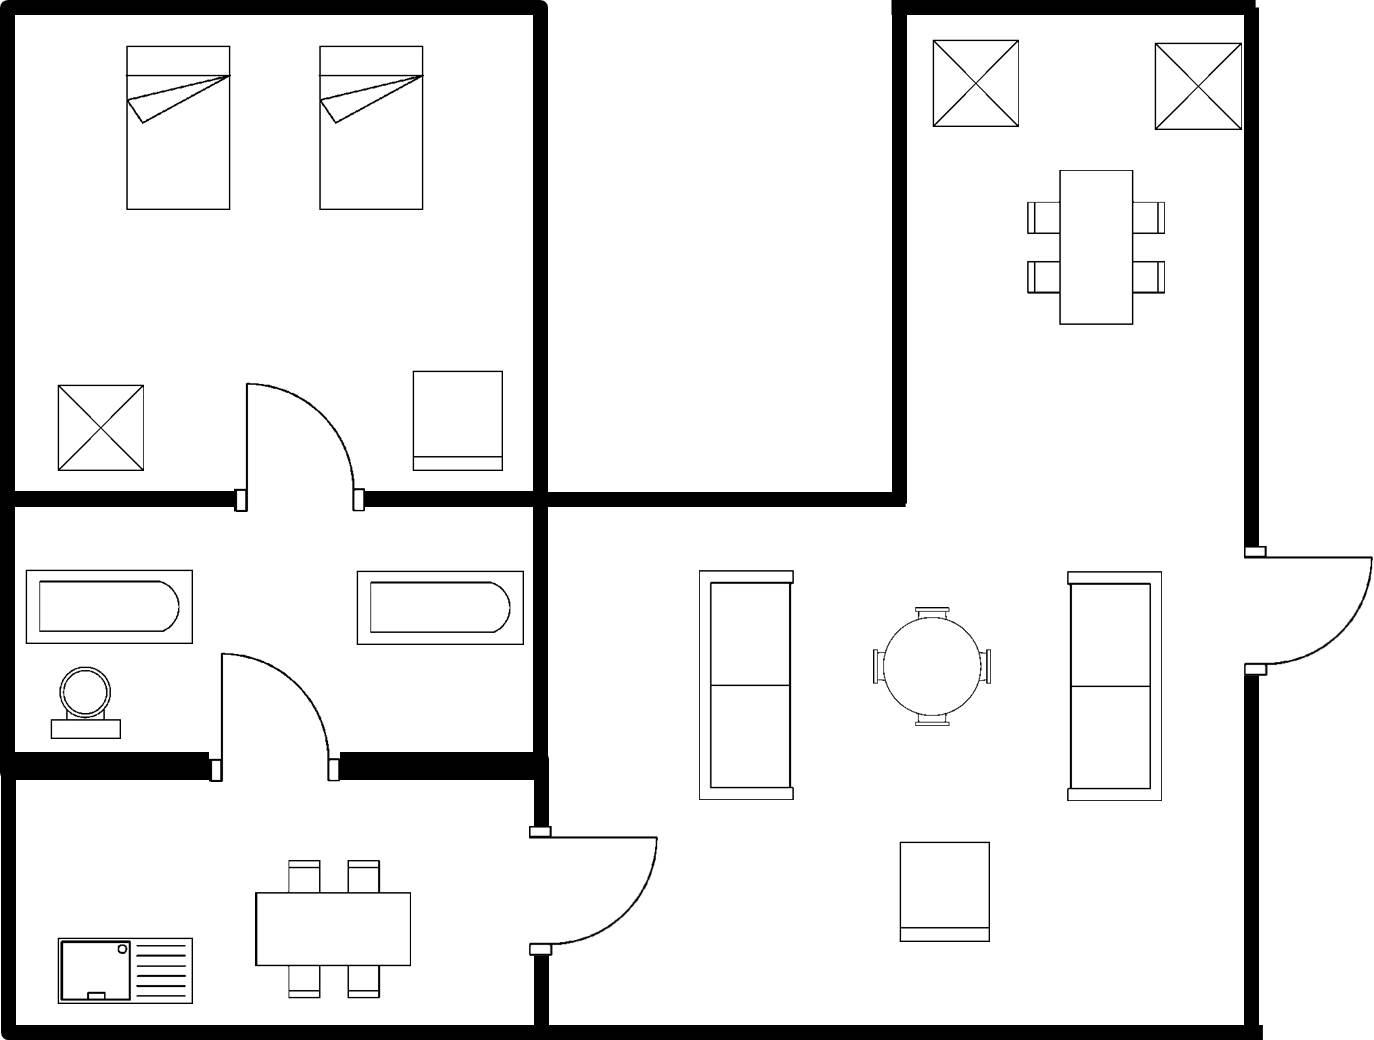bed: (309, 39, 428, 216), (120, 37, 236, 217)
dining_table: (246, 851, 418, 1003), (1020, 161, 1171, 330)
round_table: (863, 596, 1000, 731)
sink: (50, 929, 197, 1009)
sofa: (1061, 562, 1171, 809), (692, 560, 803, 805)
toilet: (37, 658, 135, 746)
tub: (350, 562, 529, 653), (17, 562, 198, 650)
